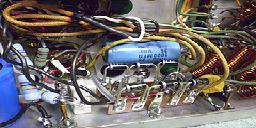Electrolytic-Capacitor: (100, 41, 190, 66)
